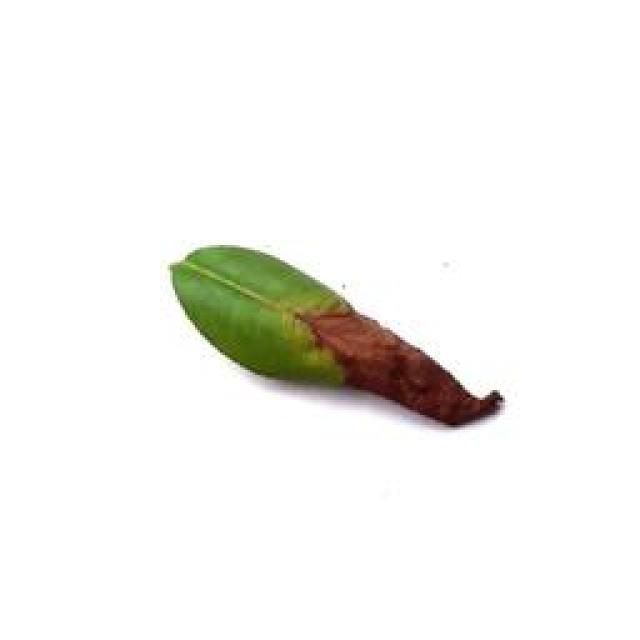Brown Blight: (153, 239, 511, 431)
